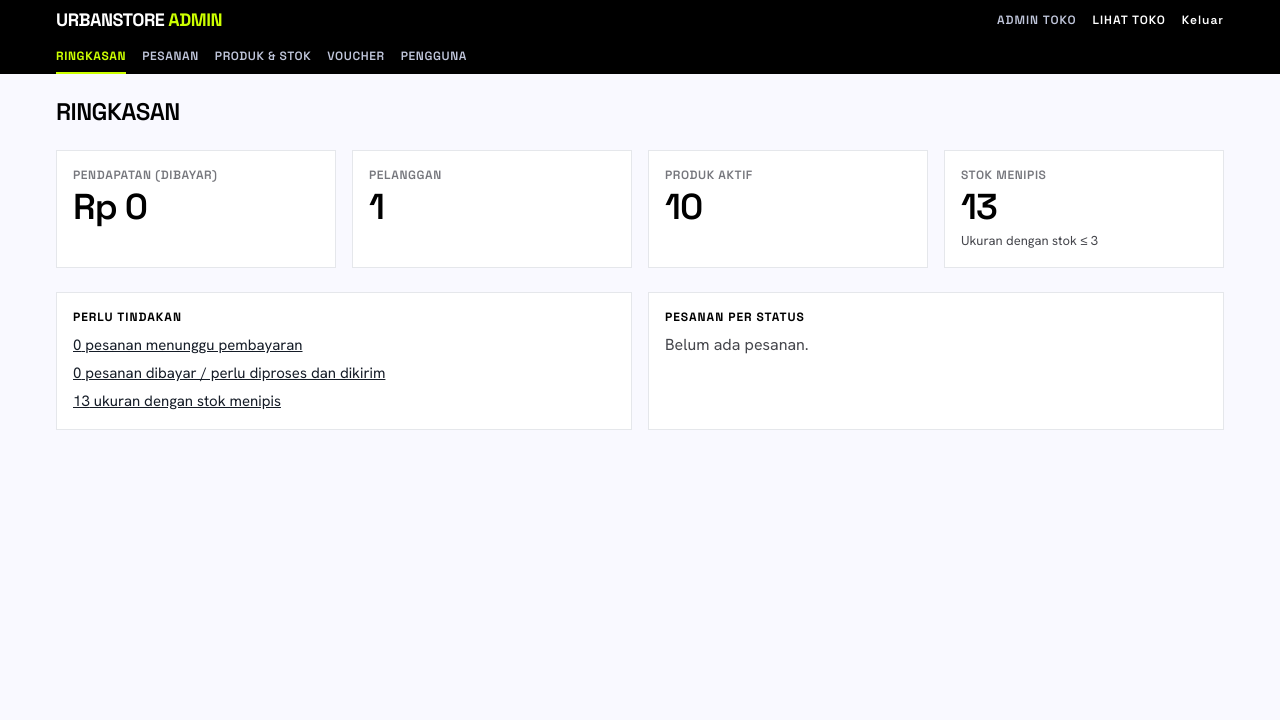
Test: panel admin: ringkasan › navigasi antar menu admin
This screenshot has width=1280, height=720.
Click the link "Pesanan" at {"x": 170, "y": 56}, box x1=142 y1=48 x2=199 y2=64
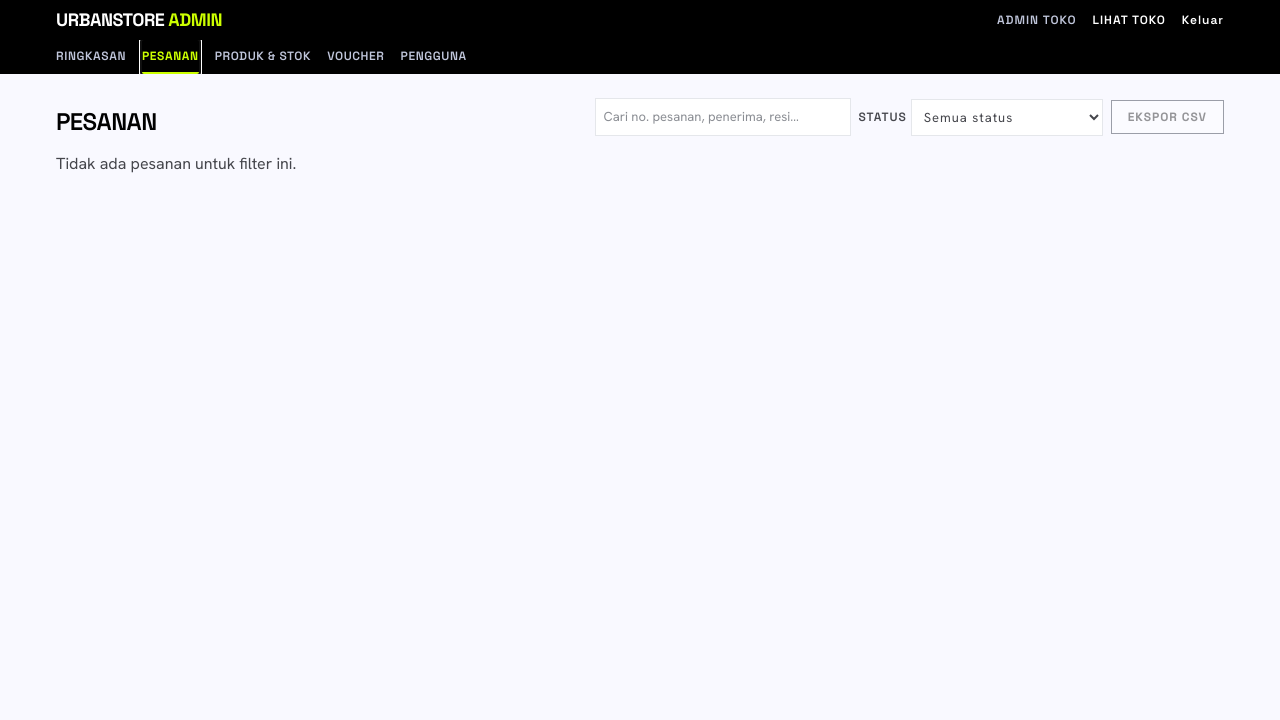
Expected: the heading "Pesanan" is shown, x1=56 y1=108 x2=157 y2=136
Click the link "Produk & Stok" at {"x": 263, "y": 56}, box x1=215 y1=48 x2=311 y2=64
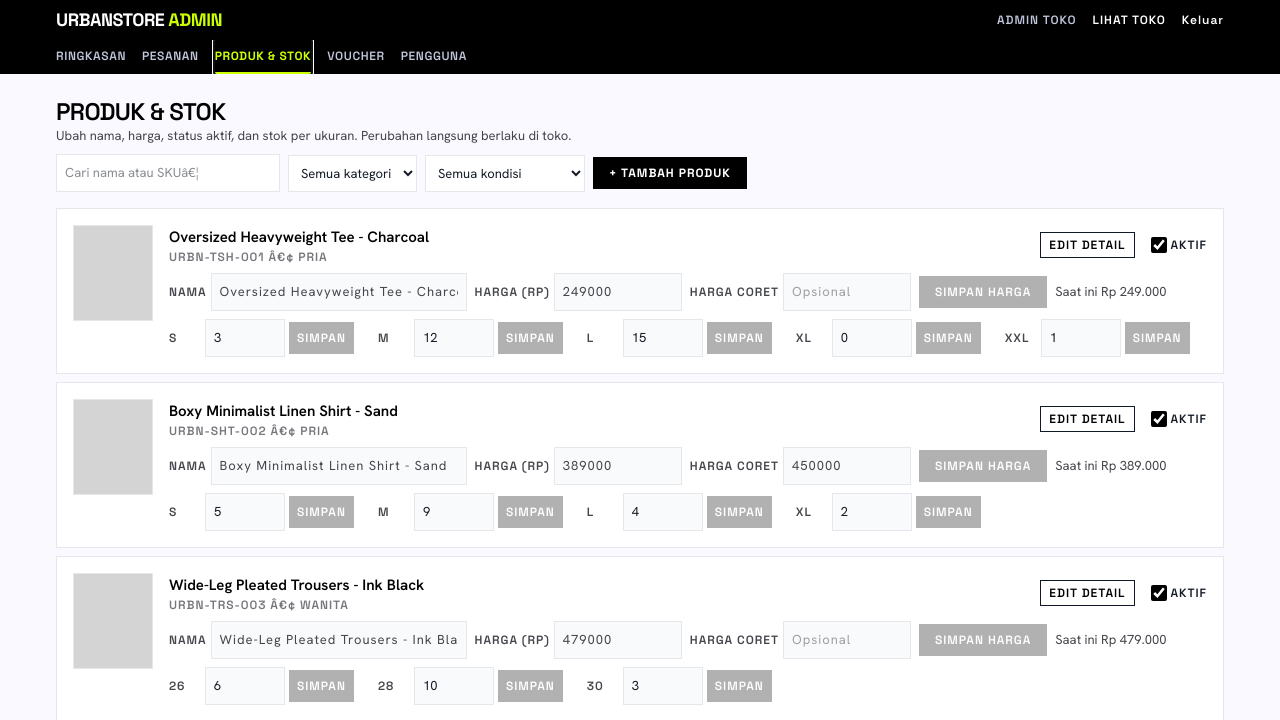
Expected: the heading "Produk & Stok" is shown, x1=56 y1=96 x2=226 y2=127
Click the link "Voucher" at {"x": 356, "y": 56}, box x1=327 y1=48 x2=385 y2=64
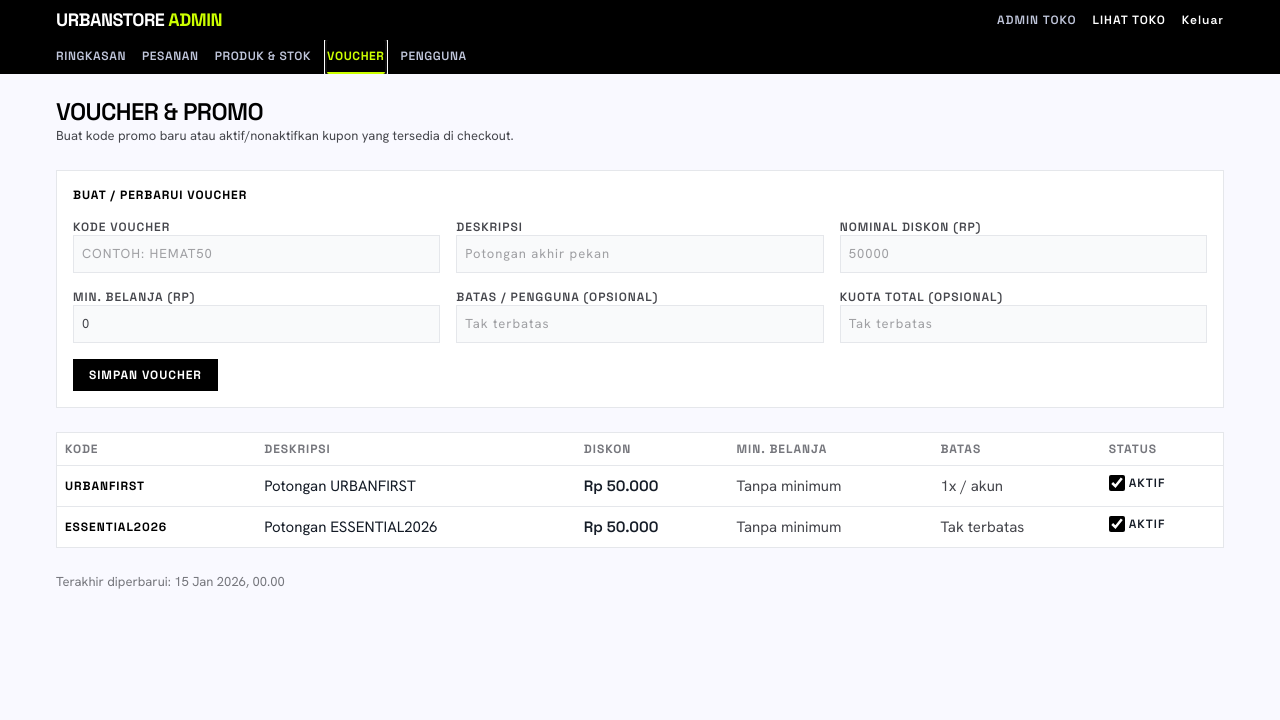
Expected: the heading "Voucher & Promo" is shown, x1=56 y1=96 x2=263 y2=127
Click the link "Pengguna" at {"x": 434, "y": 56}, box x1=400 y1=48 x2=467 y2=64
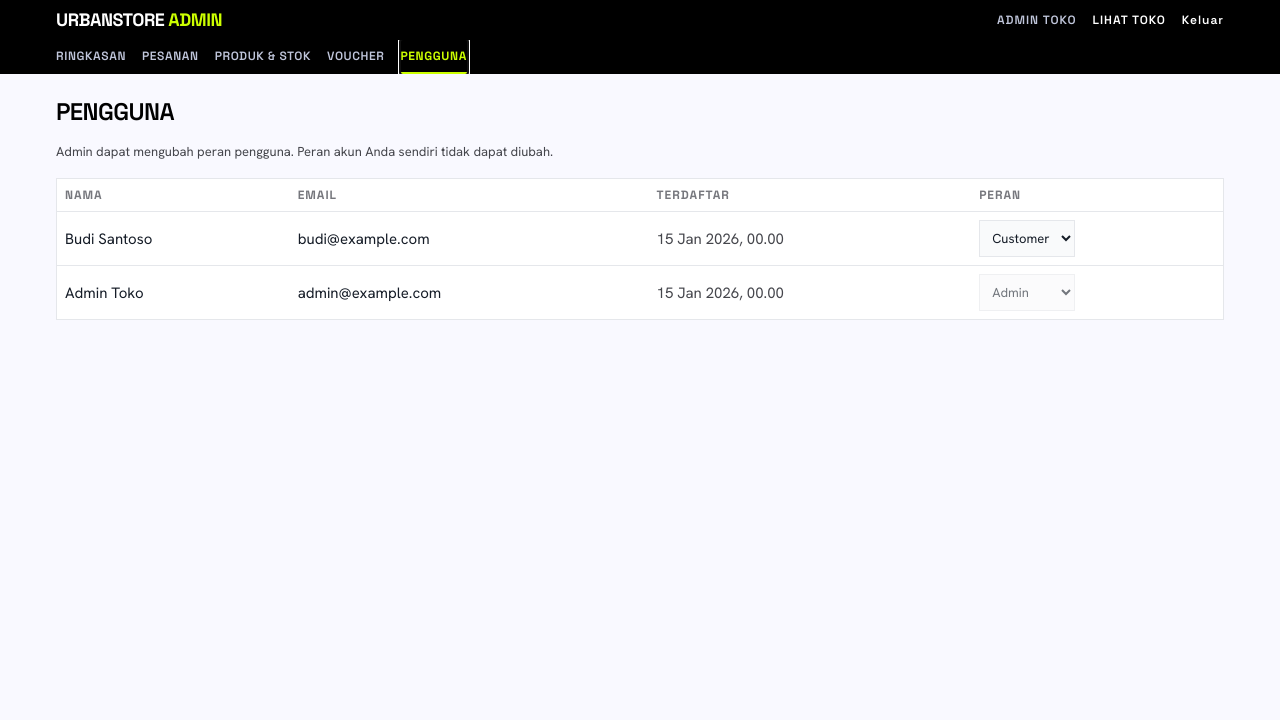
Expected: the heading "Pengguna" is shown, x1=56 y1=96 x2=174 y2=127
